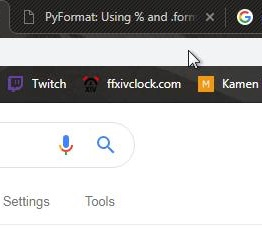cursor: (185, 47, 201, 70)
